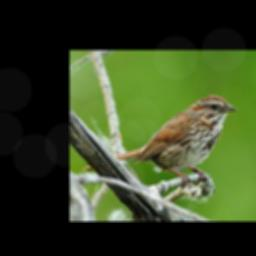Sparrow: (82, 93, 239, 189)
